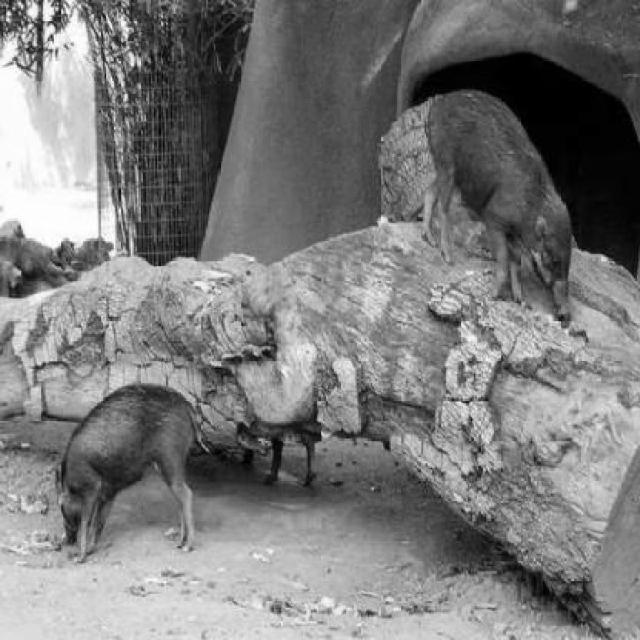Boar: (398, 83, 572, 328), (21, 377, 198, 575)
